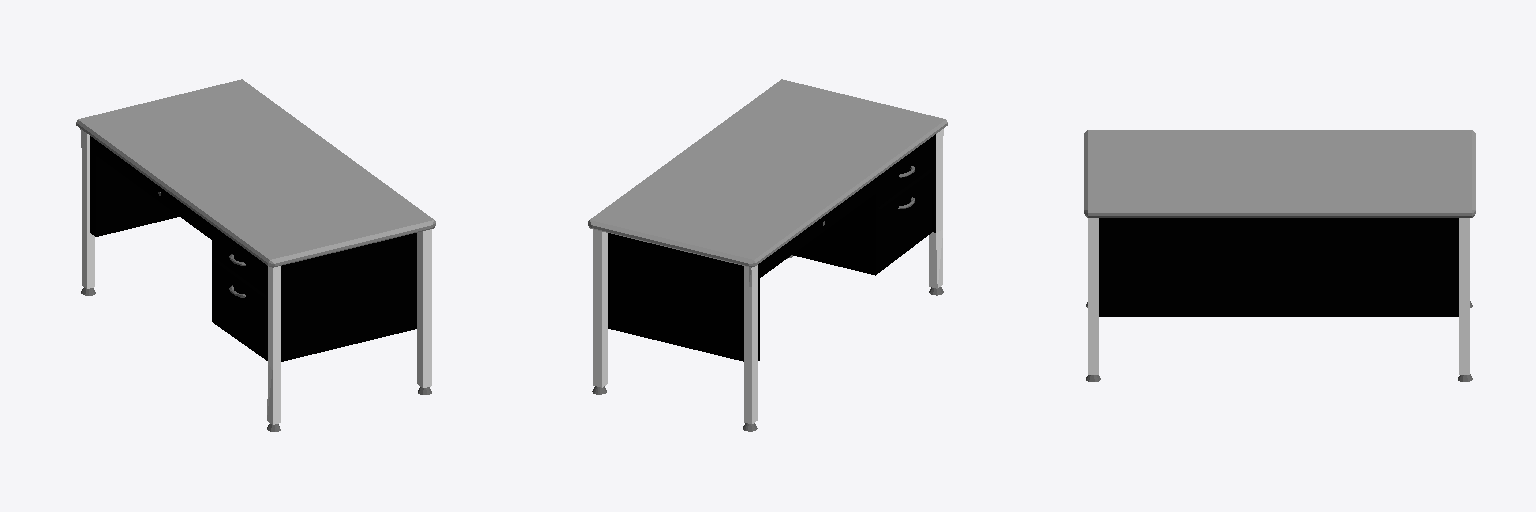
File: mesaCorreta.obj
The picture shows the model from 3 angles: view 1: azimuth 30°, elevation 25°; view 2: azimuth 150°, elevation 25°; view 3: azimuth 270°, elevation 25°; orthographic projection.
Visible parts, largest first — view 1: Cube; view 2: Cube; view 3: Cube.
Part boxes in pixels (x1,y1,x2,y2): Cube: (76, 79, 435, 431); Cube: (588, 79, 947, 431); Cube: (1084, 130, 1475, 381).
Bounding box in the file's own units: 2.21 × 2.18 × 4.48.